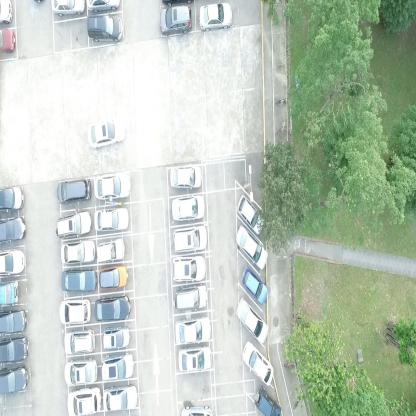car: (233, 297, 269, 345), (233, 224, 268, 269), (240, 340, 274, 385), (86, 112, 126, 150), (235, 193, 264, 236), (240, 263, 269, 304), (85, 12, 124, 42), (55, 208, 91, 240), (93, 294, 131, 324), (158, 4, 193, 36), (175, 316, 212, 346), (100, 351, 134, 383), (66, 385, 102, 415), (172, 284, 209, 313), (177, 346, 214, 375), (64, 357, 98, 387), (63, 326, 97, 356), (198, 2, 232, 32), (93, 174, 132, 200), (103, 383, 139, 411), (173, 226, 208, 254), (170, 195, 206, 222), (60, 239, 96, 266), (60, 268, 97, 294), (58, 298, 92, 326), (55, 178, 91, 204), (253, 384, 282, 416), (0, 366, 29, 398), (97, 263, 129, 291), (95, 235, 125, 264), (172, 257, 207, 281), (0, 335, 28, 365), (94, 209, 130, 232), (168, 164, 202, 188), (0, 214, 27, 244), (102, 324, 131, 351), (0, 184, 25, 214), (0, 308, 27, 335), (49, 0, 86, 19), (0, 250, 25, 278), (0, 279, 19, 308), (0, 27, 16, 55), (85, 0, 121, 12), (180, 404, 213, 415), (0, 0, 13, 27)
